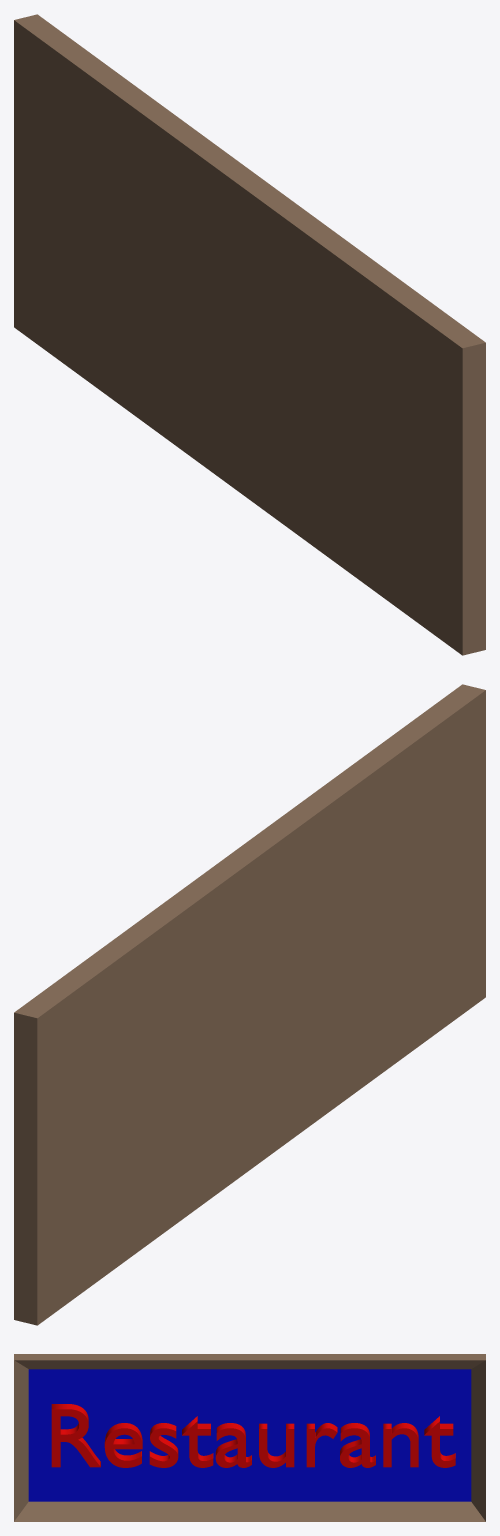
The model's file is Sign_Restaurant.fbx.
3 renders of one model, top to bottom at view 1: azimuth 30°, elevation 25°; view 2: azimuth 150°, elevation 25°; view 3: azimuth 270°, elevation 25°, orthographic. The views are drawn at different scales.
Parts seen in each view (by area): view 1: Restaurant; view 2: Restaurant; view 3: Restaurant, Text.003.
Part boxes in pixels (x1,y1,x2,y2): Restaurant: [14, 14, 485, 655]; Restaurant: [14, 684, 485, 1325]; Restaurant: [14, 1354, 485, 1521]; Text.003: [51, 1404, 455, 1467].
Size of the model in its own units: 17.78 by 200 by 529.
